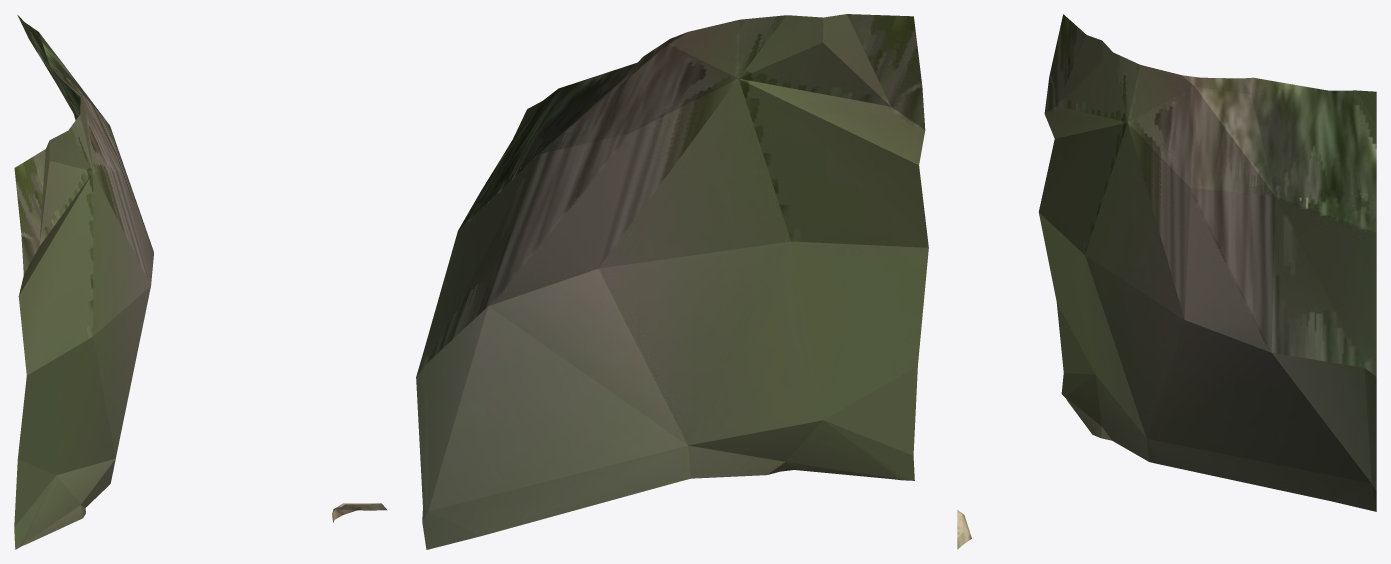
3 views of the same model, side by side, from view 1: azimuth 30°, elevation 25°; view 2: azimuth 150°, elevation 25°; view 3: azimuth 270°, elevation 25° (orthographic). The views are drawn at different scales.
Size of the model in its own units: 2.59 by 2.95 by 2.95.
Materials: 2 (2 with a texture image).
